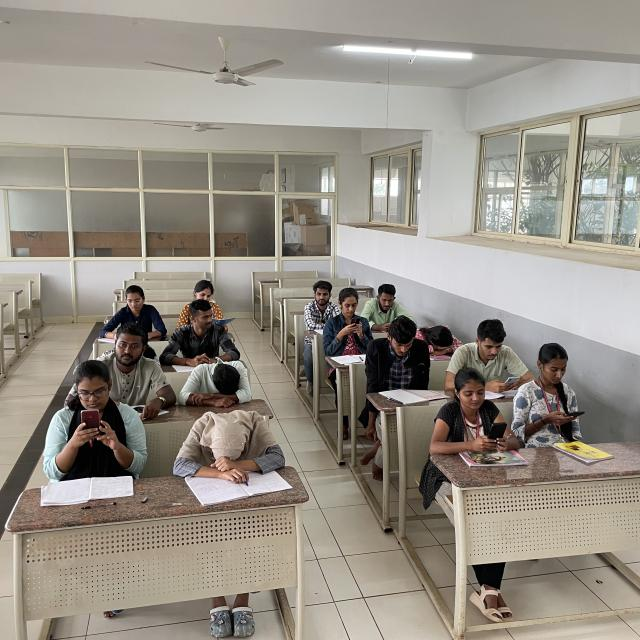Reading: (366, 312, 436, 394), (95, 284, 171, 338), (180, 278, 235, 329)
Sleeping: (170, 403, 288, 479), (175, 359, 264, 411), (409, 317, 470, 356)
Using Phone: (40, 360, 147, 484), (514, 337, 591, 445), (428, 364, 512, 454), (448, 317, 535, 394), (323, 284, 373, 352), (364, 280, 404, 331)
